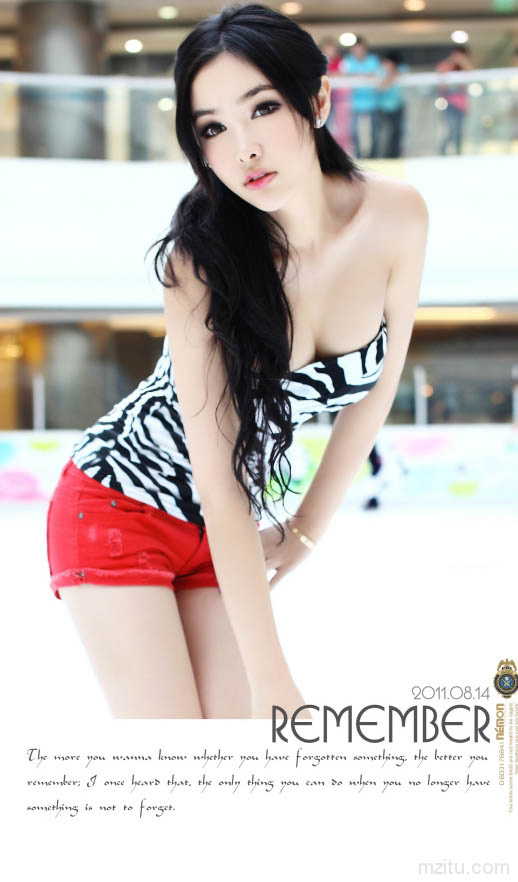women: (43, 5, 432, 718)
